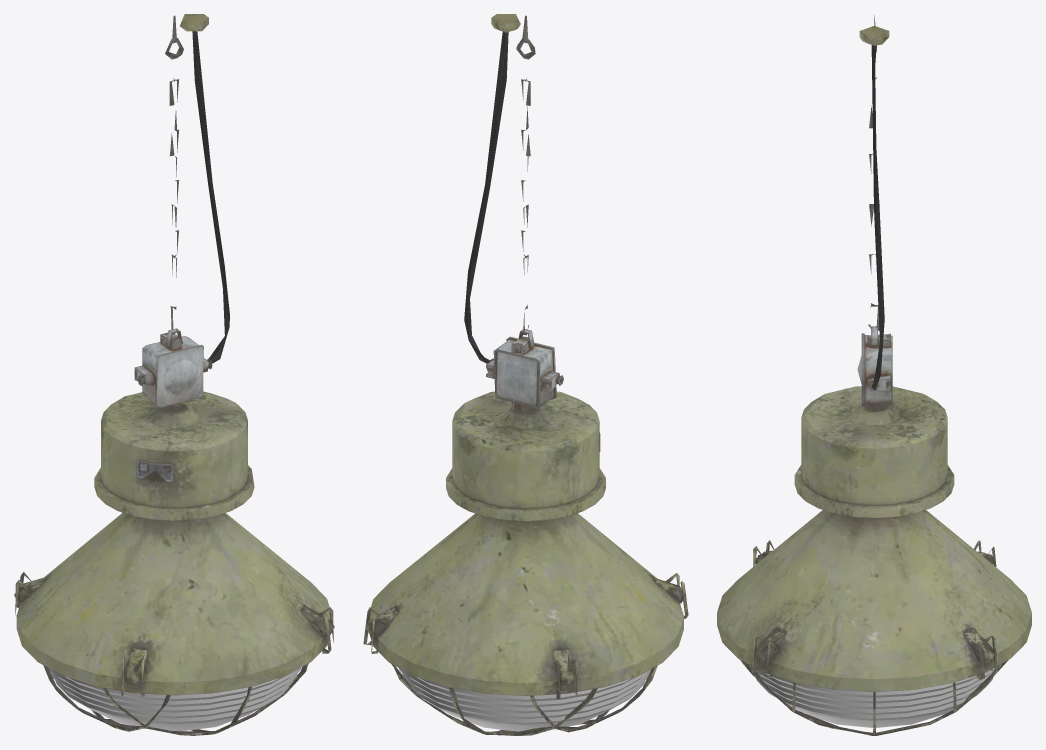
Rendered from hanging_industrial_lamp.glb.
3 renders of one model, left to right at view 1: azimuth 30°, elevation 25°; view 2: azimuth 150°, elevation 25°; view 3: azimuth 270°, elevation 25°, orthographic.
Parts seen in each view (by area): view 1: hanging_industrial_lamp; view 2: hanging_industrial_lamp; view 3: hanging_industrial_lamp.
Part boxes in pixels (<box>): hanging_industrial_lamp: <box>14,14,334,735</box>; hanging_industrial_lamp: <box>363,14,688,735</box>; hanging_industrial_lamp: <box>717,15,1031,735</box>.
Size of the model in its own units: 0.5497 by 1.36 by 0.5497.
Materials: 2 (1 with a texture image).
